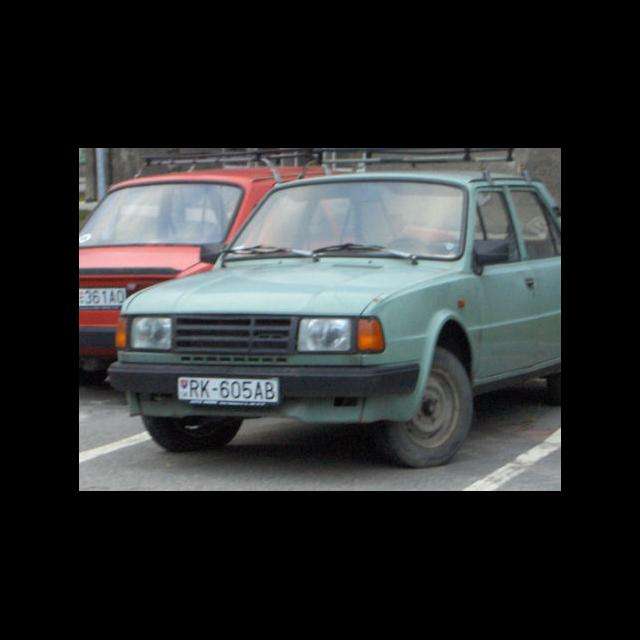Plate: (178, 376, 280, 406)
